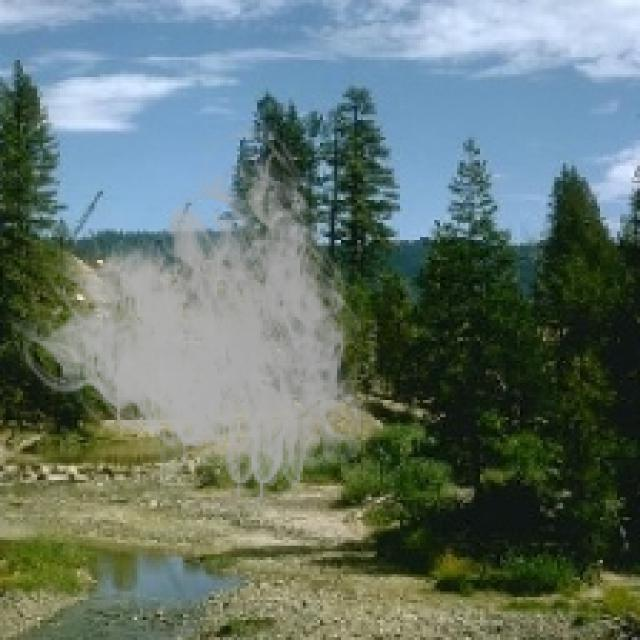smoke: (11, 117, 386, 523)
